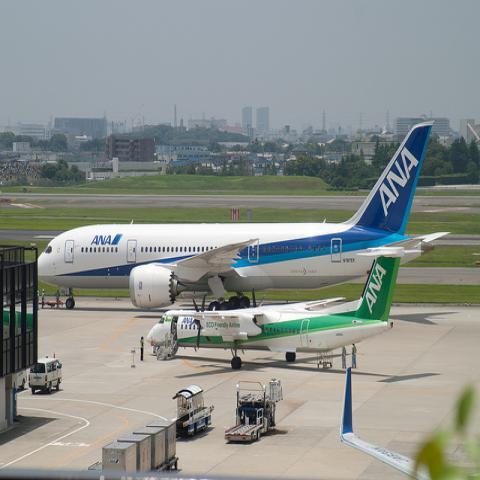car: (29, 360, 61, 394)
truck: (225, 379, 284, 441), (172, 383, 216, 437)
